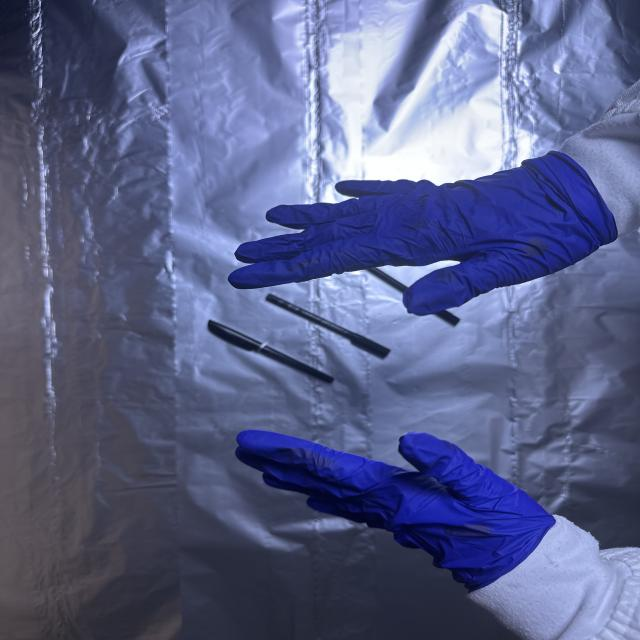gloves_contaminated: (229, 152, 617, 315), (237, 431, 551, 589)
